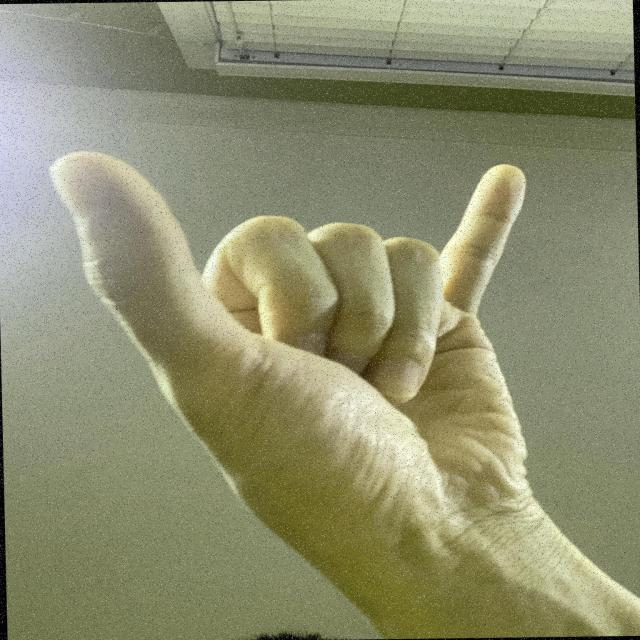Y: (38, 137, 564, 574)
